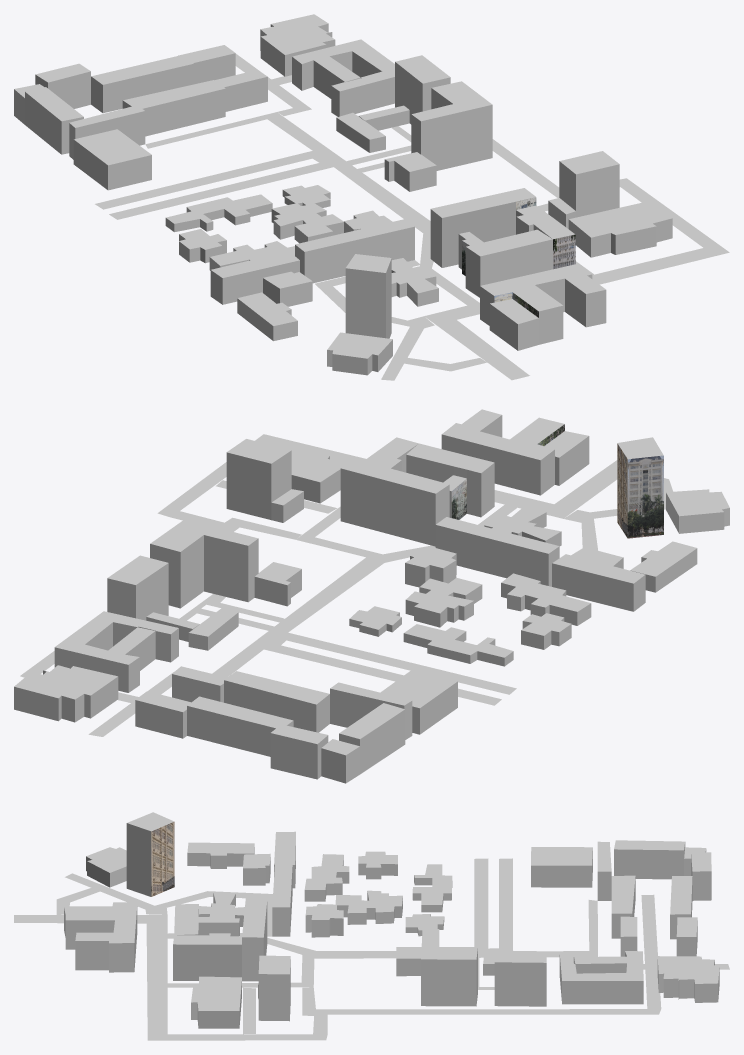
3 views of the same model, one above another, from view 1: azimuth 30°, elevation 25°; view 2: azimuth 150°, elevation 25°; view 3: azimuth 270°, elevation 25° (orthographic). The views are drawn at different scales.
Visible parts, largest first — view 1: surfaceMember (×2); view 2: surfaceMember (×2); view 3: surfaceMember (×2).
Part boxes in pixels (x1=…): surfaceMember (×2): x1=14, y1=14, x2=729, y2=380; surfaceMember (×2): x1=14, y1=409, x2=729, y2=783; surfaceMember (×2): x1=14, y1=812, x2=729, y2=1040.
Size of the model in its own units: 273 by 444 by 45.
